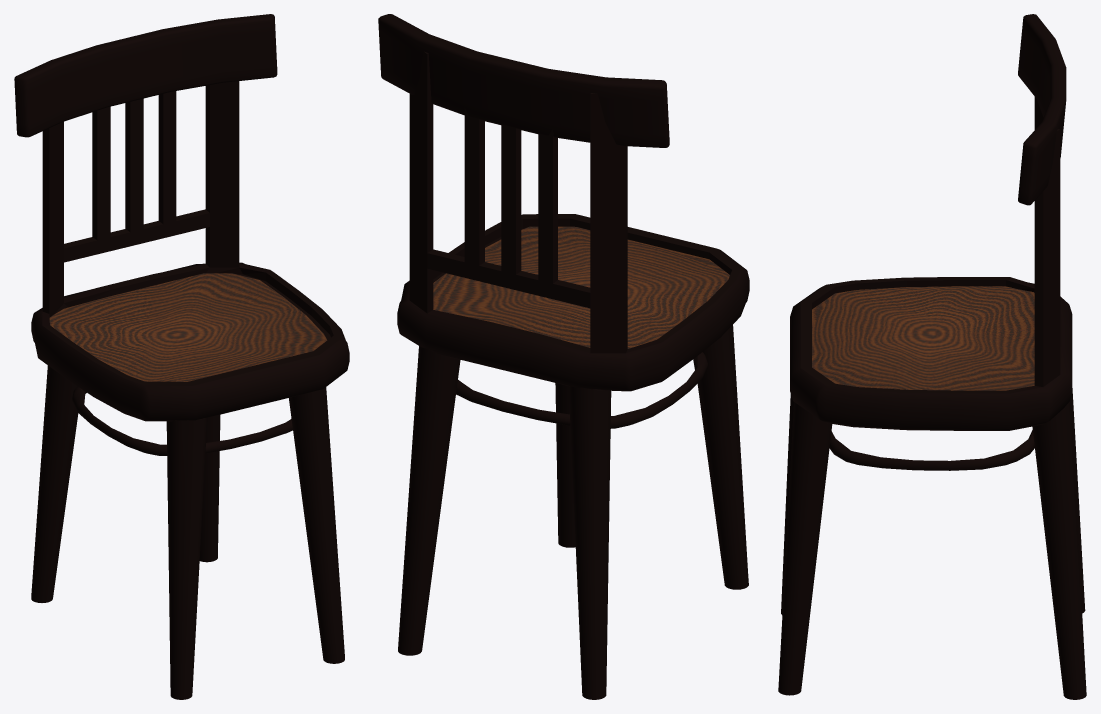
The model's file is Chair.FBX.
The picture shows the model from 3 angles, left to right: view 1: azimuth 30°, elevation 25°; view 2: azimuth 150°, elevation 25°; view 3: azimuth 270°, elevation 25°; orthographic projection. The views are drawn at different scales.
Parts seen in each view (by area): view 1: ChamferBox001, Cylinder003; view 2: ChamferBox001, Cylinder003; view 3: ChamferBox001, Cylinder003.
Boxes of the visible parts, x1,y1,x2,y2 form: ChamferBox001: (14,14,349,699); Cylinder003: (49,273,327,381); ChamferBox001: (378,14,749,699); Cylinder003: (433,226,729,348); ChamferBox001: (778,14,1086,699); Cylinder003: (812,286,1034,390).
Size of the model in its own units: 0.4667 by 0.9417 by 0.4578.
